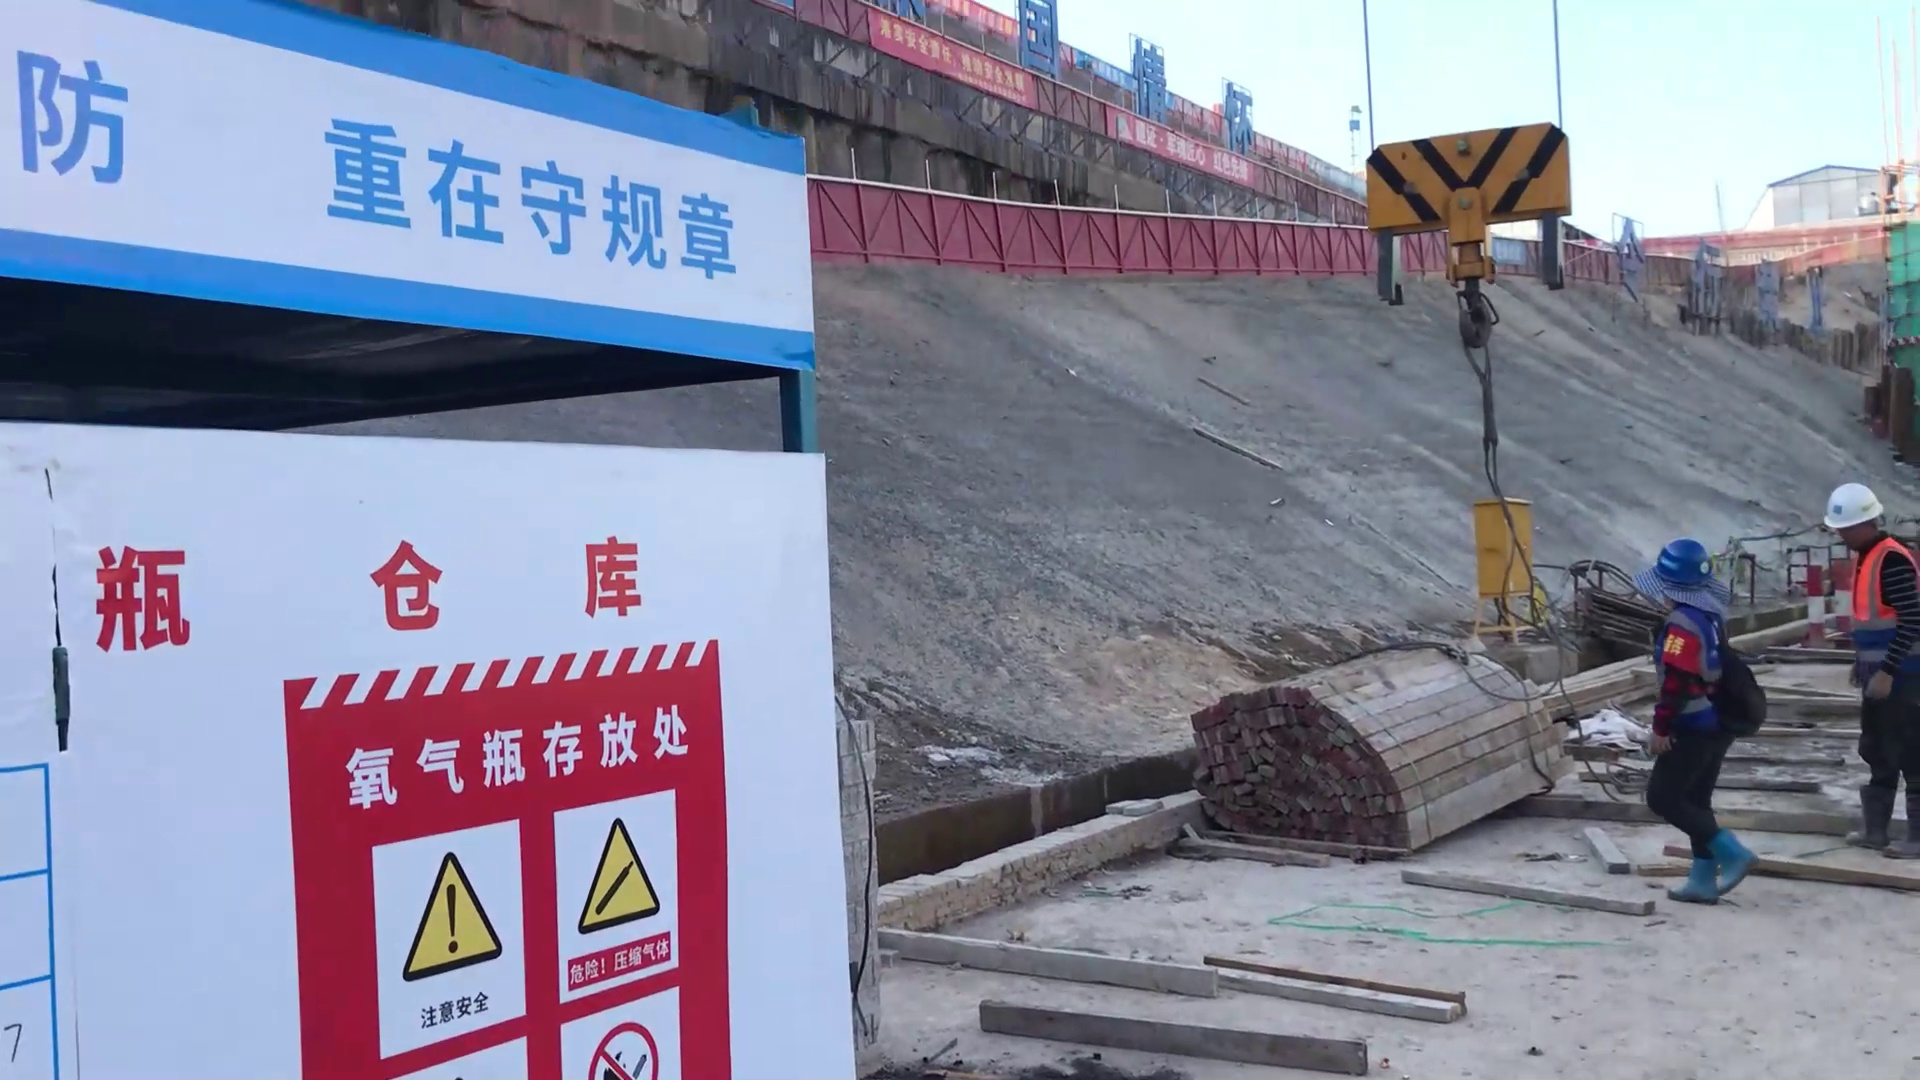ebox: (1448, 474, 1544, 615)
fence: (804, 174, 1351, 286)
helmet: (1621, 527, 1743, 638), (1796, 452, 1881, 550)
hook: (1348, 99, 1580, 303)
person: (1627, 535, 1761, 910), (1813, 480, 1919, 857)
slogan: (285, 664, 709, 1080), (1, 90, 738, 307), (867, 19, 1064, 135)
vest: (1840, 559, 1918, 646)
wood: (1170, 630, 1571, 868)
